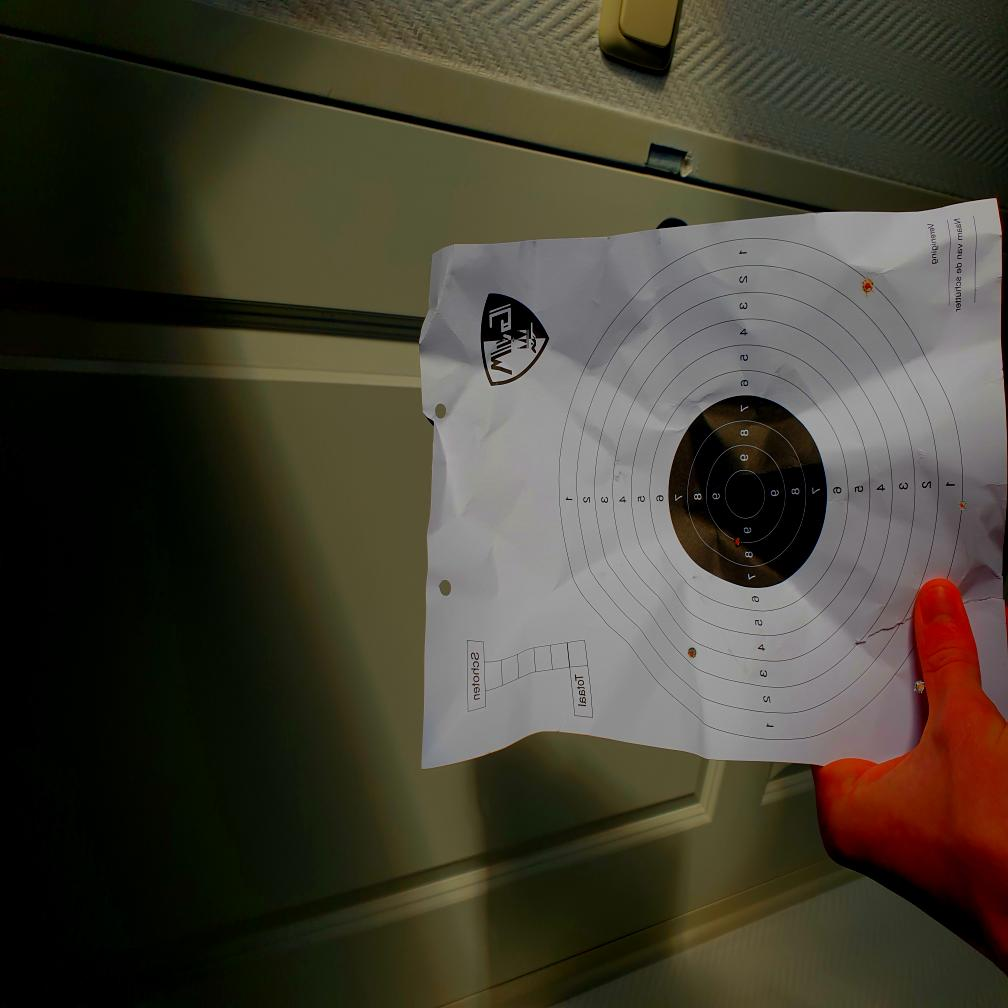0: (913, 679, 925, 695)
1: (861, 278, 876, 296), (958, 500, 967, 513)
4: (686, 646, 698, 660)
9: (733, 537, 743, 548)
Target: (557, 238, 963, 745)
black_contour: (668, 396, 828, 589)
